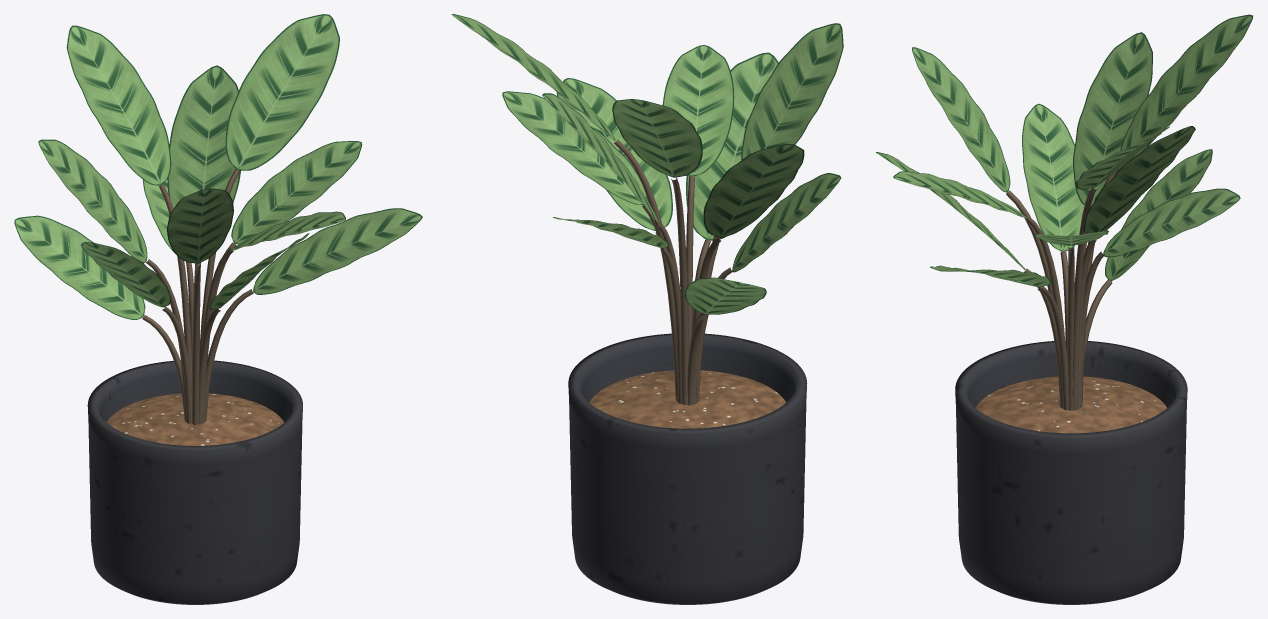
The model's file is calathea.glb.
3 views of the same model, side by side, from view 1: azimuth 30°, elevation 25°; view 2: azimuth 150°, elevation 25°; view 3: azimuth 270°, elevation 25° (orthographic). The views are drawn at different scales.
Parts seen in each view (by area): view 1: piece-0, piece-10, piece-8, piece-14, piece-5, piece-1, piece-7, piece-2, piece-3, piece-11, piece-9, piece-6 (+3 smaller); view 2: piece-0, piece-1, piece-9, piece-14, piece-12, piece-11, piece-8, piece-2, piece-4, piece-7, piece-6, piece-10 (+3 smaller); view 3: piece-0, piece-1, piece-14, piece-11, piece-6, piece-8, piece-9, piece-13, piece-5, piece-3, piece-12, piece-10 (+3 smaller).
Part boxes in pixels (x1,y1,x2,y2): piece-0: (87, 360, 302, 604); piece-10: (225, 14, 339, 170); piece-8: (66, 25, 171, 185); piece-14: (142, 169, 253, 424); piece-5: (167, 65, 240, 208); piece-1: (106, 393, 283, 445); piece-7: (253, 208, 422, 294); piece-2: (231, 141, 362, 244); piece-3: (14, 215, 145, 319); piece-11: (38, 139, 147, 263); piece-9: (167, 188, 233, 263); piece-6: (81, 242, 170, 307); piece-0: (568, 333, 807, 604); piece-1: (589, 370, 786, 428); piece-9: (741, 23, 843, 159); piece-14: (614, 139, 732, 405); piece-12: (662, 45, 734, 176); piece-11: (703, 144, 804, 237); piece-8: (612, 99, 702, 177); piece-2: (502, 91, 646, 204); piece-4: (686, 52, 778, 240); piece-7: (556, 78, 672, 230); piece-6: (732, 173, 841, 272); piece-10: (451, 14, 615, 140); piece-0: (955, 341, 1187, 604); piece-1: (975, 376, 1166, 433); piece-14: (1006, 168, 1120, 410); piece-11: (1073, 32, 1152, 205); piece-6: (1022, 103, 1084, 251); piece-8: (1120, 14, 1253, 161); piece-9: (912, 47, 1010, 192); piece-13: (1103, 188, 1240, 257); piece-5: (1083, 126, 1195, 233); piece-3: (1105, 149, 1212, 280); piece-12: (893, 171, 1028, 218); piece-10: (1076, 126, 1169, 189).
Bounding box in the file's own units: 0.2611 × 0.4021 × 0.2619.
Materials: 4 (3 with a texture image).
